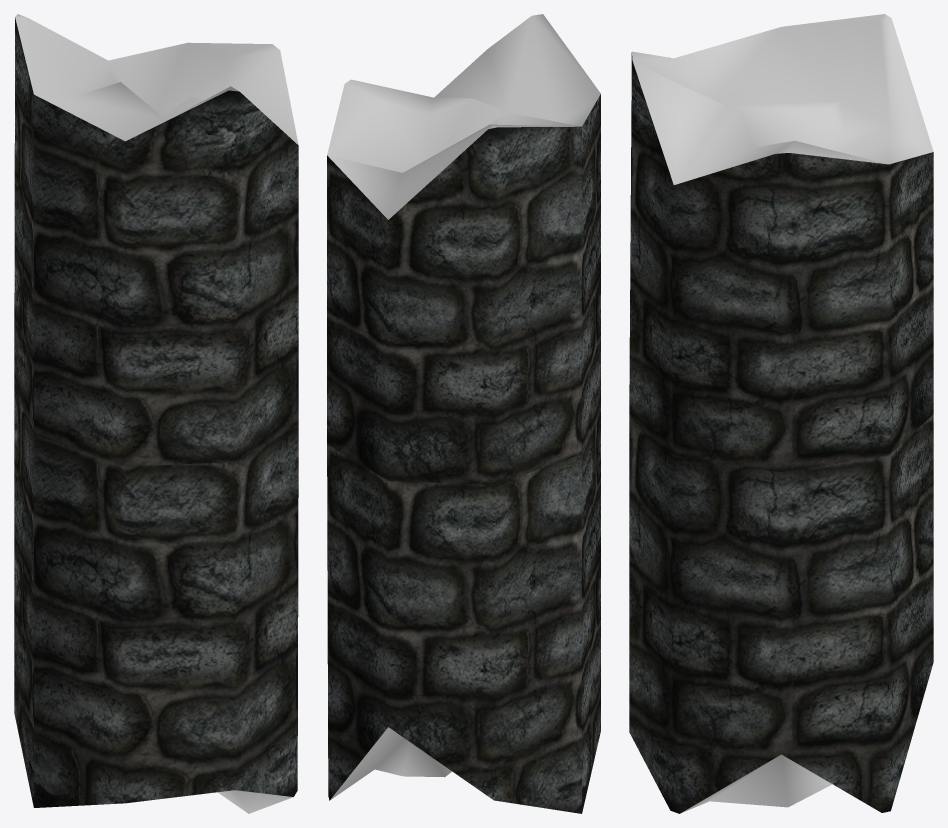
The model's file is tall_castlestone_decayed02.dae.
3 renders of one model, left to right at view 1: azimuth 30°, elevation 25°; view 2: azimuth 150°, elevation 25°; view 3: azimuth 270°, elevation 25°, orthographic. The views are drawn at different scales.
Visible parts, largest first — view 1: tall_castlestone_decayed02, polySurface8; view 2: tall_castlestone_decayed02, polySurface8; view 3: tall_castlestone_decayed02, polySurface8.
Boxes of the visible parts, x1,y1,x2,y2 form: tall_castlestone_decayed02: (14,17,298,807); polySurface8: (15,14,298,813); tall_castlestone_decayed02: (327,94,600,813); polySurface8: (327,14,600,800); tall_castlestone_decayed02: (629,52,933,813); polySurface8: (632,14,933,813).
Size of the model in its own units: 1.18 by 3.44 by 1.3.
